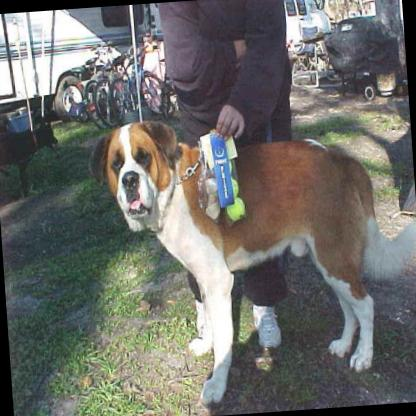Saint_Bernard: (85, 97, 416, 414)
